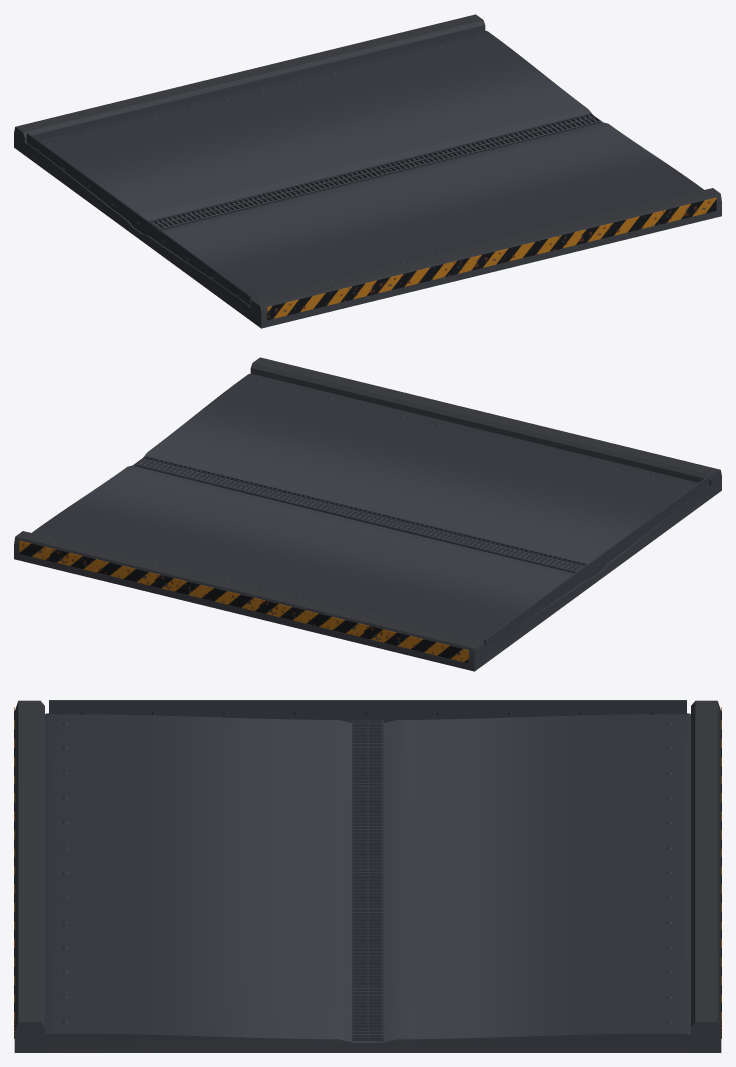
The model's file is foundry_path_ground.glb.
3 renders of one model, top to bottom at view 1: azimuth 30°, elevation 25°; view 2: azimuth 150°, elevation 25°; view 3: azimuth 270°, elevation 25°, orthographic. The views are drawn at different scales.
Parts seen in each view (by area): view 1: road_plate, road_kerb_n, road_kerb_p, road_kerb_haz_p, road_drain, road_joint_strap; view 2: road_plate, road_kerb_p, road_kerb_n, road_kerb_haz_n, road_drain, road_joint_strap; view 3: road_plate, road_joint_strap, road_kerb_n, road_kerb_p, road_drain.
Boxes of the visible parts, x1,y1,x2,y2 form: road_plate: (24, 30, 703, 320); road_kerb_n: (14, 14, 485, 154); road_kerb_p: (250, 188, 721, 328); road_kerb_haz_p: (267, 197, 716, 320); road_drain: (148, 113, 601, 230); road_joint_strap: (27, 133, 251, 306); road_plate: (32, 373, 711, 663); road_kerb_p: (250, 357, 721, 497); road_kerb_n: (14, 531, 485, 671); road_kerb_haz_n: (19, 540, 468, 663); road_drain: (134, 456, 587, 573); road_joint_strap: (484, 476, 708, 649); road_plate: (45, 713, 690, 1052); road_joint_strap: (49, 700, 686, 722); road_kerb_n: (691, 700, 721, 1052); road_kerb_p: (14, 700, 44, 1052); road_drain: (352, 720, 383, 1041).
Size of the model in its own units: 4 by 0.19 by 3.73.
Materials: 4 (1 with a texture image).
